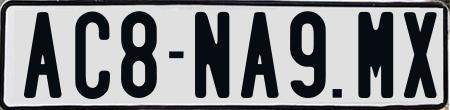8: (119, 8, 156, 100)
9: (290, 9, 328, 102)
A: (241, 9, 284, 97), (22, 11, 63, 100)
C: (73, 11, 113, 104)
M: (357, 9, 398, 100)
N: (192, 10, 232, 98)
X: (403, 12, 432, 104)
